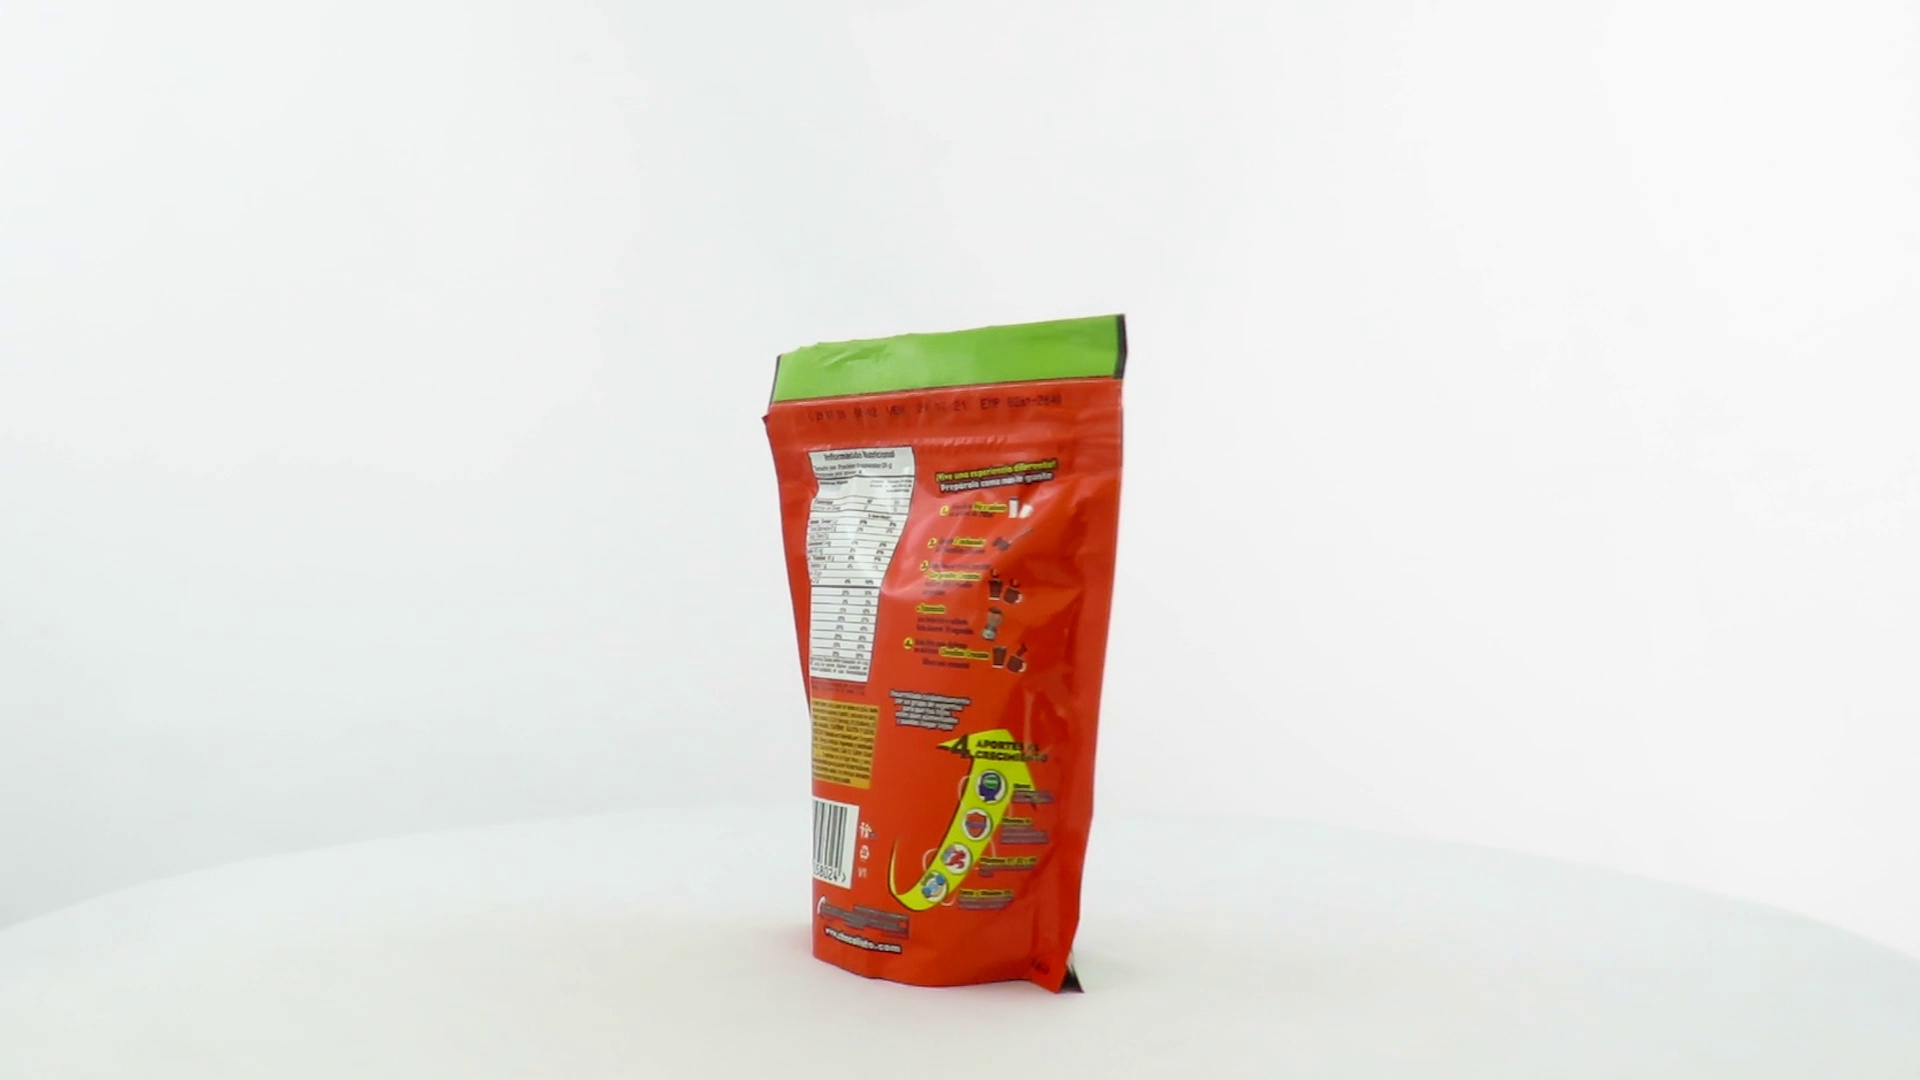COL0170102DYP10000: (757, 309, 1134, 1000)
